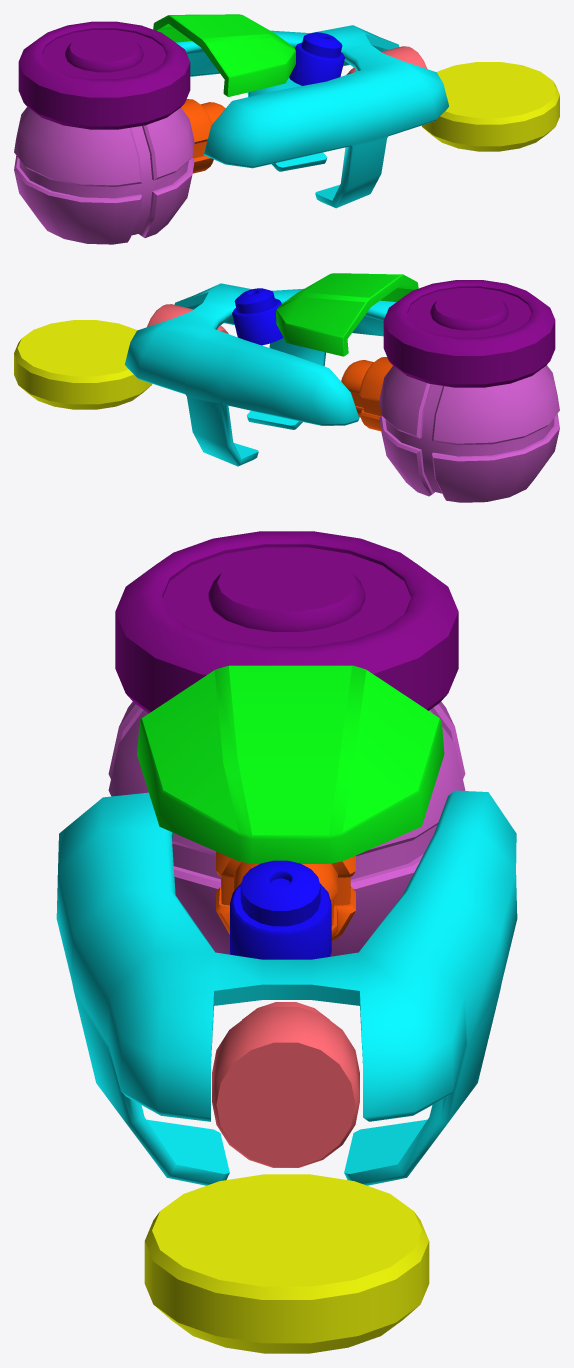
File: upperArmLeft.FBX
3 views of the same model, one above another, from view 1: azimuth 30°, elevation 25°; view 2: azimuth 150°, elevation 25°; view 3: azimuth 270°, elevation 25° (orthographic). The views are drawn at different scales.
Visible parts, largest first — view 1: Cylinder013; view 2: Cylinder013; view 3: Cylinder013.
Part boxes in pixels (x1=…): Cylinder013: x1=14, y1=14, x2=559, y2=244; Cylinder013: x1=14, y1=273, x2=559, y2=502; Cylinder013: x1=56, y1=531, x2=517, y2=1353.
Bounding box in the file's own units: 63.8 × 21.79 × 24.28.
